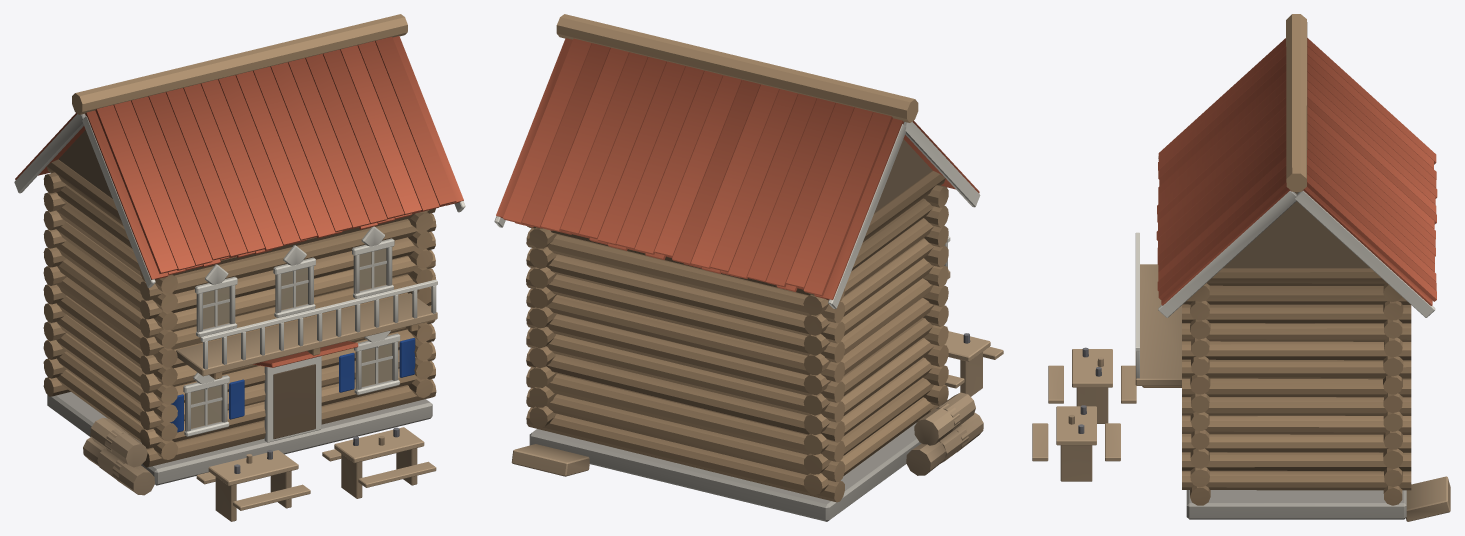
File: bld_traktir_e1.glb
3 views of the same model, side by side, from view 1: azimuth 30°, elevation 25°; view 2: azimuth 150°, elevation 25°; view 3: azimuth 270°, elevation 25° (orthographic). The views are drawn at different scales.
Visible parts, largest first — view 1: traktir; view 2: traktir; view 3: traktir.
Part boxes in pixels (x1=…): traktir: x1=14, y1=14, x2=465, y2=521; traktir: x1=494, y1=14, x2=1003, y2=521; traktir: x1=1032, y1=14, x2=1450, y2=521.
Bounding box in the file's own units: 1.69 × 1.77 × 1.84.
